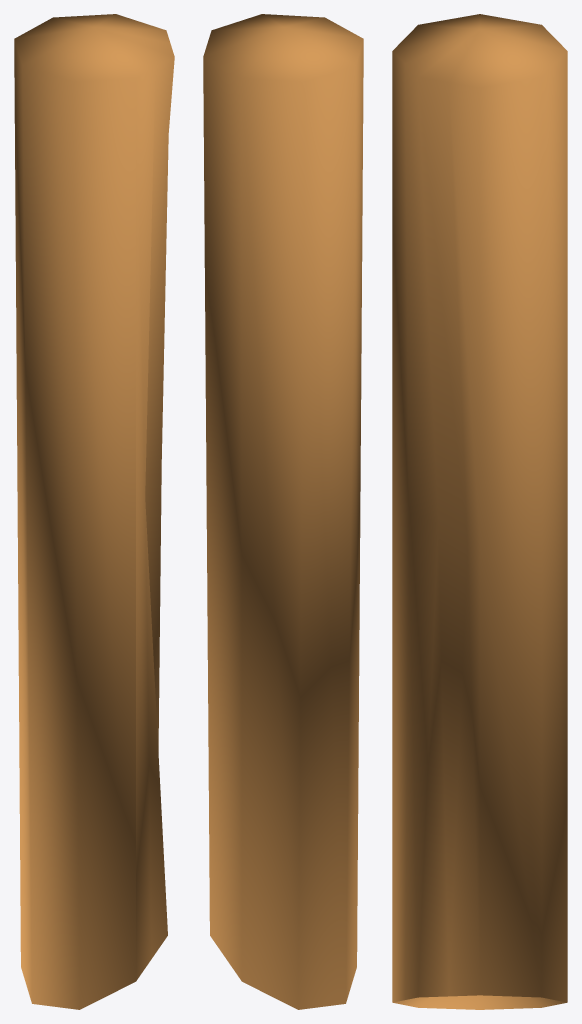
The model's file is BlackHole.Piece.04.fbx.
3 renders of one model, left to right at view 1: azimuth 30°, elevation 25°; view 2: azimuth 150°, elevation 25°; view 3: azimuth 270°, elevation 25°, orthographic. The views are drawn at different scales.
Parts seen in each view (by area): view 1: BH.Piece.04; view 2: BH.Piece.04; view 3: BH.Piece.04.
Boxes of the visible parts, x1=… form: BH.Piece.04: x1=14, y1=14, x2=174, y2=1009; BH.Piece.04: x1=203, y1=14, x2=363, y2=1009; BH.Piece.04: x1=392, y1=14, x2=567, y2=1009.
Bounding box in the file's own units: 40 × 255 × 40.
